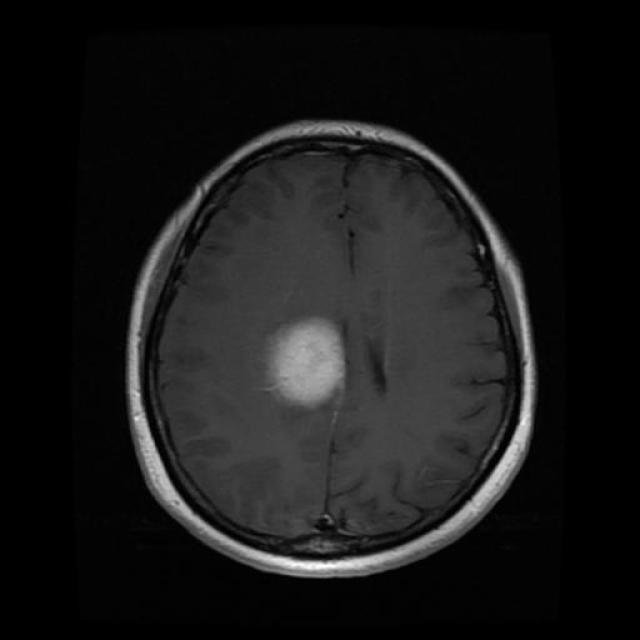meningioma: (272, 318, 342, 406)
